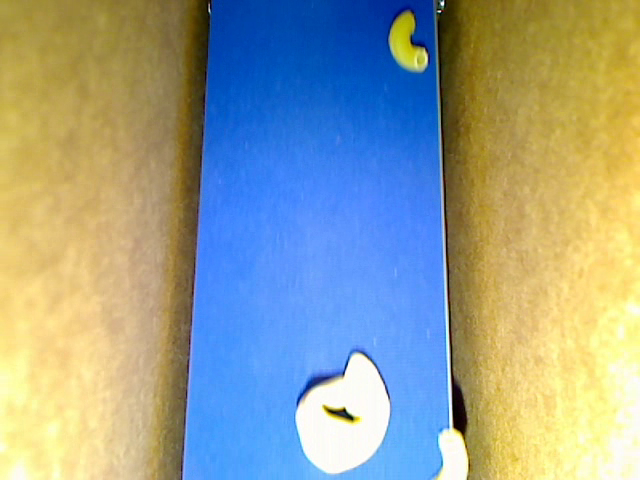elbow: (387, 10, 428, 73), (430, 427, 470, 479)
tortellini: (294, 351, 391, 475)
